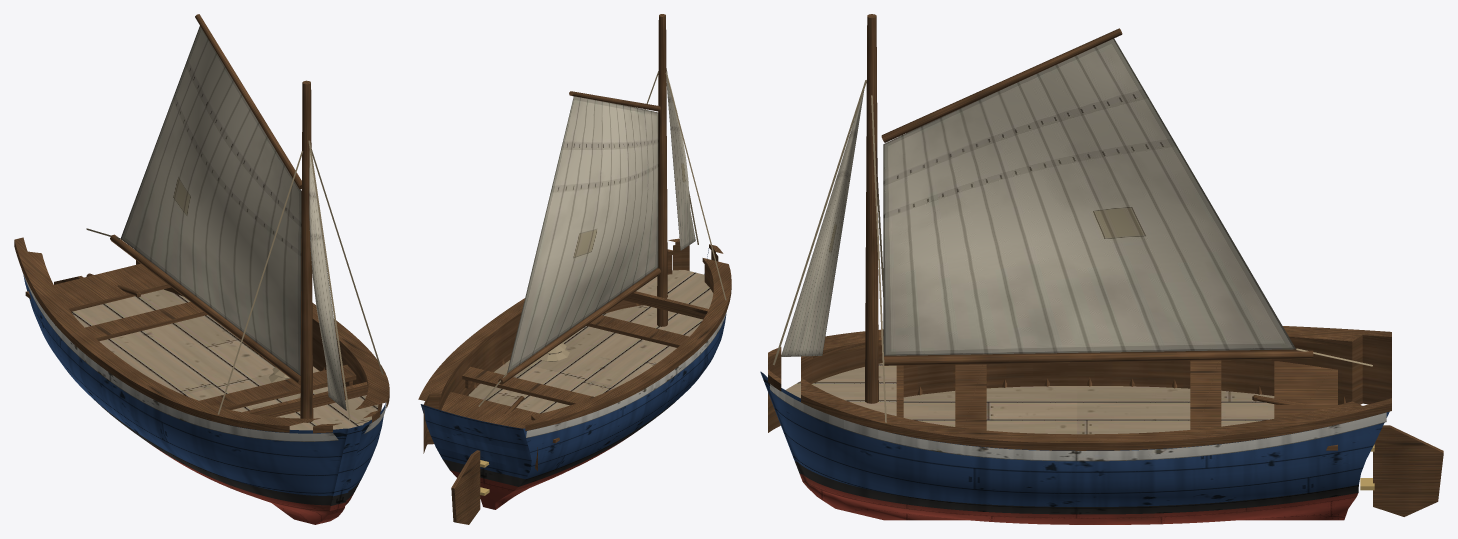
File: SM_SailCutter.glb
The picture shows the model from 3 angles, left to right: view 1: azimuth 30°, elevation 25°; view 2: azimuth 150°, elevation 25°; view 3: azimuth 270°, elevation 25°; orthographic projection. The views are drawn at different scales.
Visible parts, largest first — view 1: SM_SailCutter; view 2: SM_SailCutter; view 3: SM_SailCutter.
Part boxes in pixels (x1=…): SM_SailCutter: x1=14, y1=14, x2=389, y2=524; SM_SailCutter: x1=418, y1=14, x2=731, y2=524; SM_SailCutter: x1=760, y1=14, x2=1443, y2=524.
Size of the model in its own units: 2.02 by 3.9 by 4.83.
Materials: 9 (7 with a texture image).
